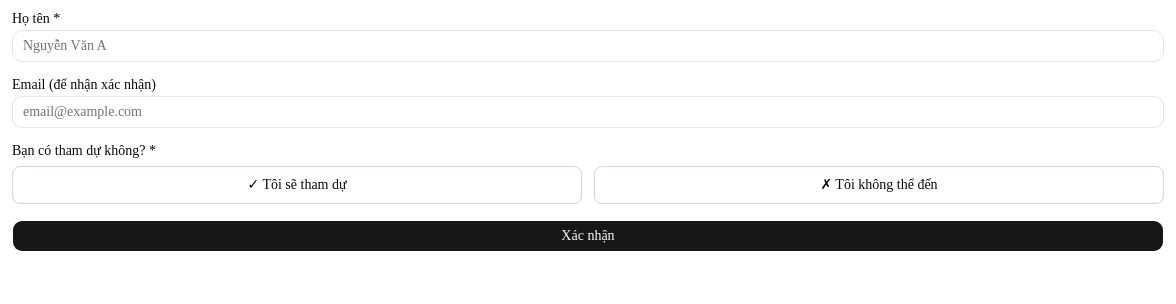
Scenario: RSVPForm › shows error when submitting without name or attendance
Click the button "Xác nhận": (588, 236) [12,220,1164,252]
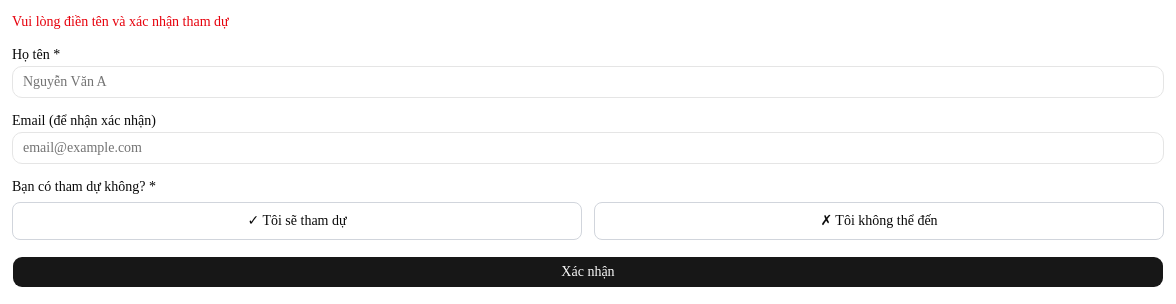
Now the text "Vui lòng điền tên và xác nhận tham dự" is shown, box [12,14,229,29]
